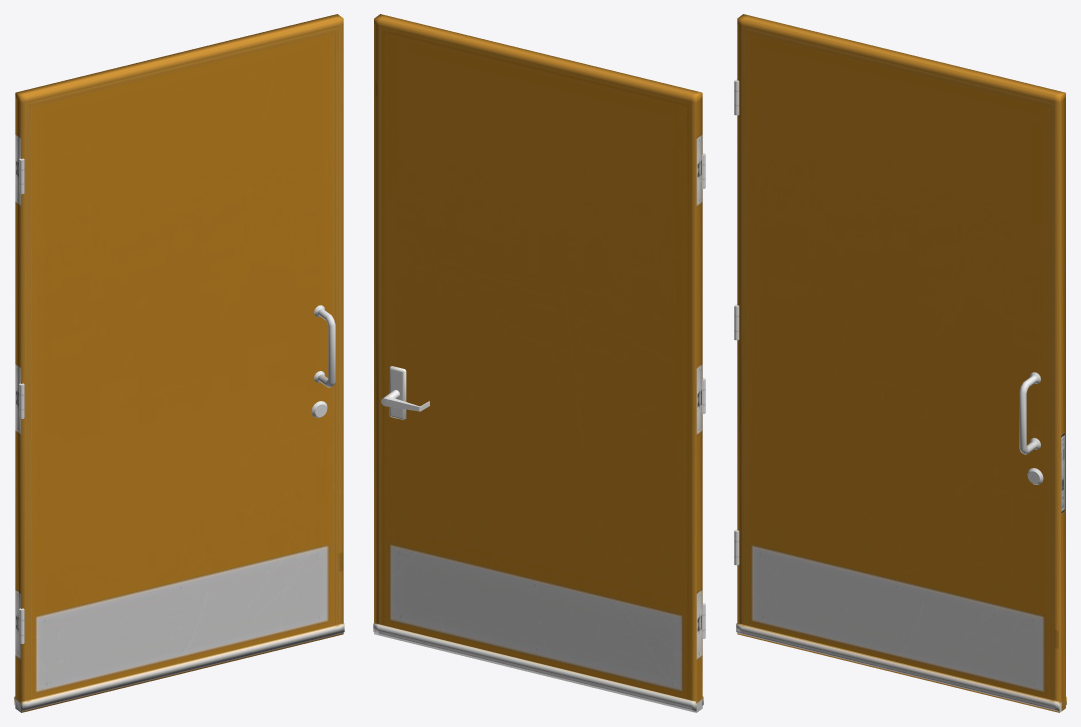
The model's file is metal_door_001.glb.
The picture shows the model from 3 angles, left to right: view 1: azimuth 30°, elevation 25°; view 2: azimuth 150°, elevation 25°; view 3: azimuth 330°, elevation 25°; orthographic projection.
Parts seen in each view (by area): view 1: metal_door_001; view 2: metal_door_001; view 3: metal_door_001.
Part boxes in pixels (x1,y1,x2,y2): metal_door_001: (14, 14, 344, 712); metal_door_001: (373, 14, 705, 712); metal_door_001: (734, 14, 1066, 712).
Size of the model in its own units: 1.53 by 2.78 by 0.2761.
1 material, 1 textured.
